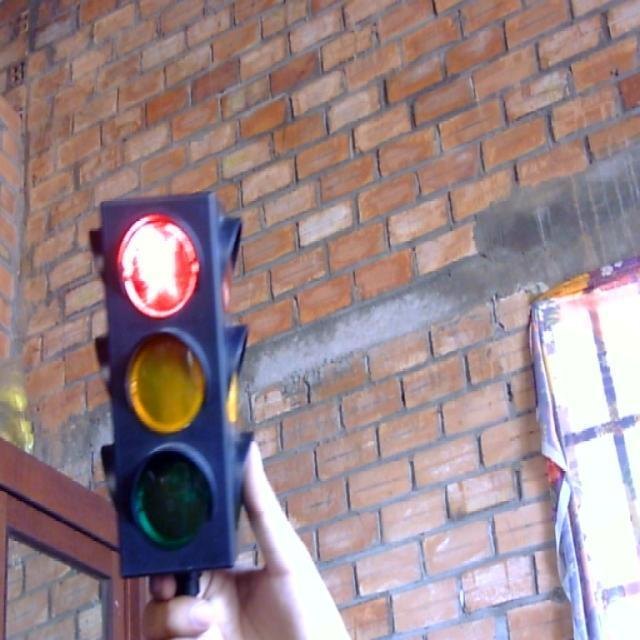red_light: (90, 190, 260, 582)
